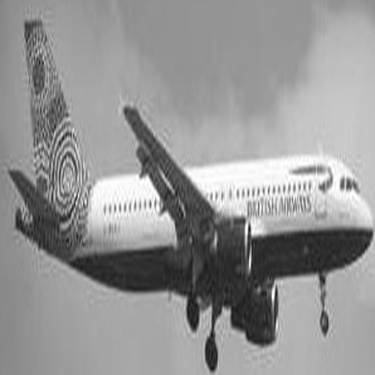airplane: (3, 1, 366, 372)
